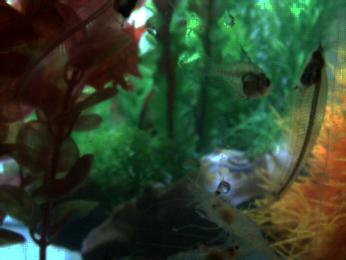X-ray fish: (200, 46, 275, 101)
glassfish: (2, 1, 142, 121), (255, 44, 331, 213)
siberian prawn: (180, 181, 283, 260), (161, 235, 264, 260)
